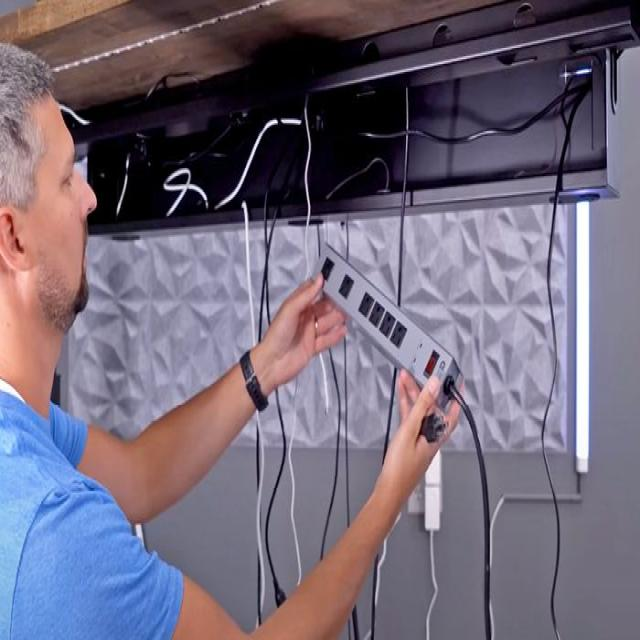electronics: (316, 243, 489, 638), (316, 243, 462, 406), (445, 376, 490, 638), (214, 120, 300, 206), (254, 410, 265, 622), (164, 165, 208, 216), (369, 534, 387, 638), (240, 352, 267, 408), (424, 450, 441, 528), (381, 366, 396, 454), (242, 200, 253, 317), (425, 549, 438, 638), (116, 150, 130, 216), (398, 168, 406, 272), (420, 411, 445, 440), (420, 414, 445, 440), (420, 413, 444, 440), (59, 101, 91, 120), (427, 426, 440, 438), (402, 133, 406, 168), (406, 86, 409, 130), (124, 155, 128, 182), (164, 174, 171, 187), (116, 195, 121, 213), (251, 321, 255, 342), (372, 600, 374, 635), (420, 414, 425, 427), (398, 272, 400, 304), (429, 530, 432, 547), (433, 376, 436, 378), (375, 560, 376, 563), (398, 514, 398, 516), (347, 240, 347, 259)
